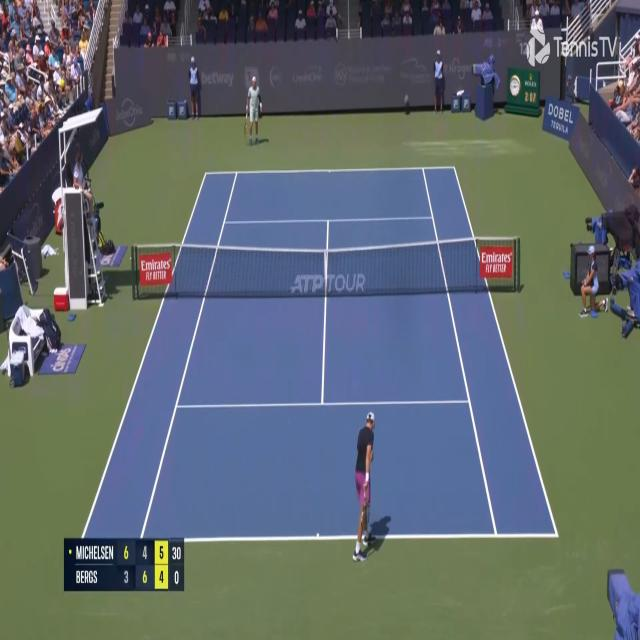tennis-player: (350, 408, 393, 568), (244, 74, 262, 147)
